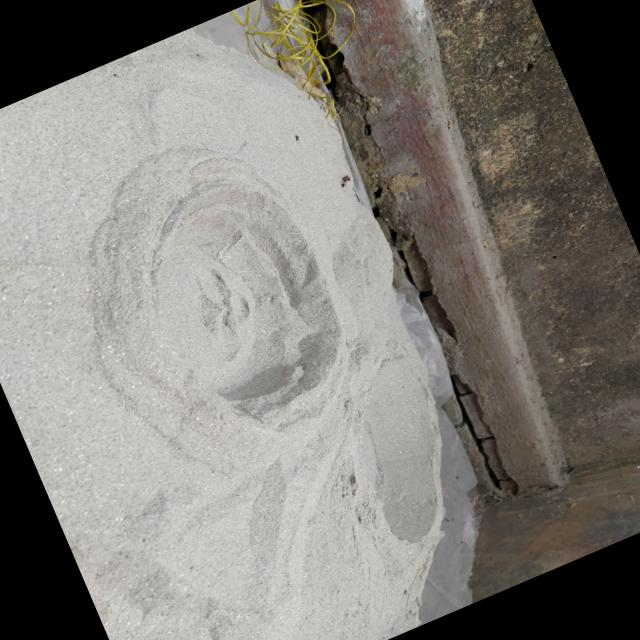C20: (152, 160, 338, 413), (358, 355, 439, 543)
